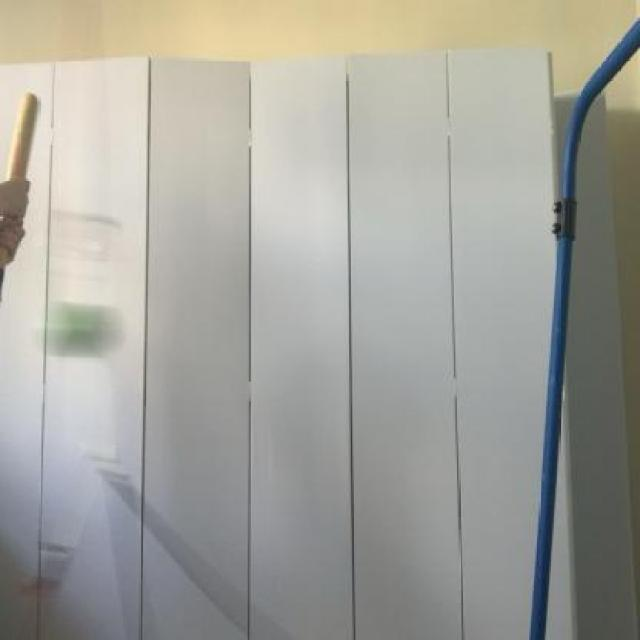baseball: (33, 288, 136, 367)
